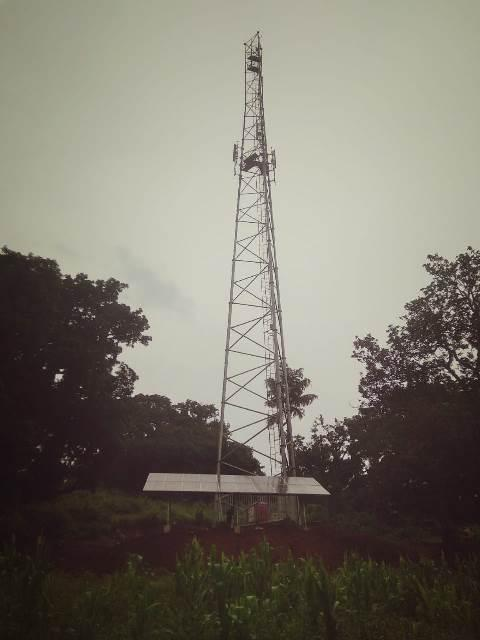GSM Antenna: (269, 141, 278, 174), (232, 140, 241, 167)
